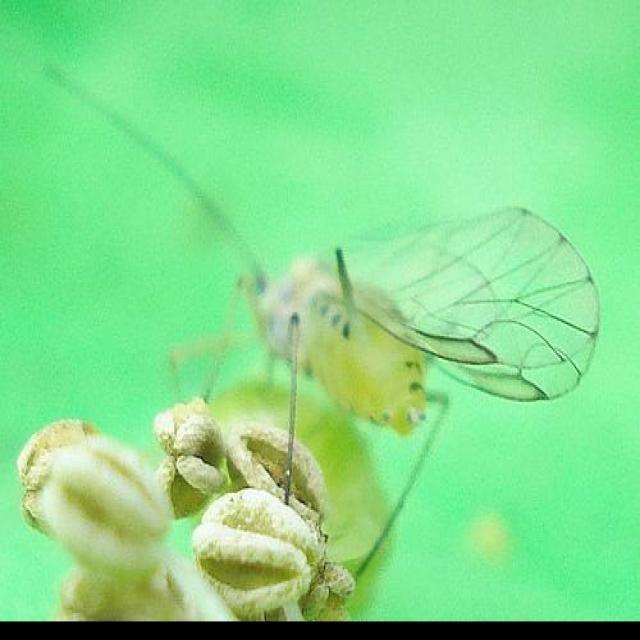Aphids: (202, 210, 594, 565)
